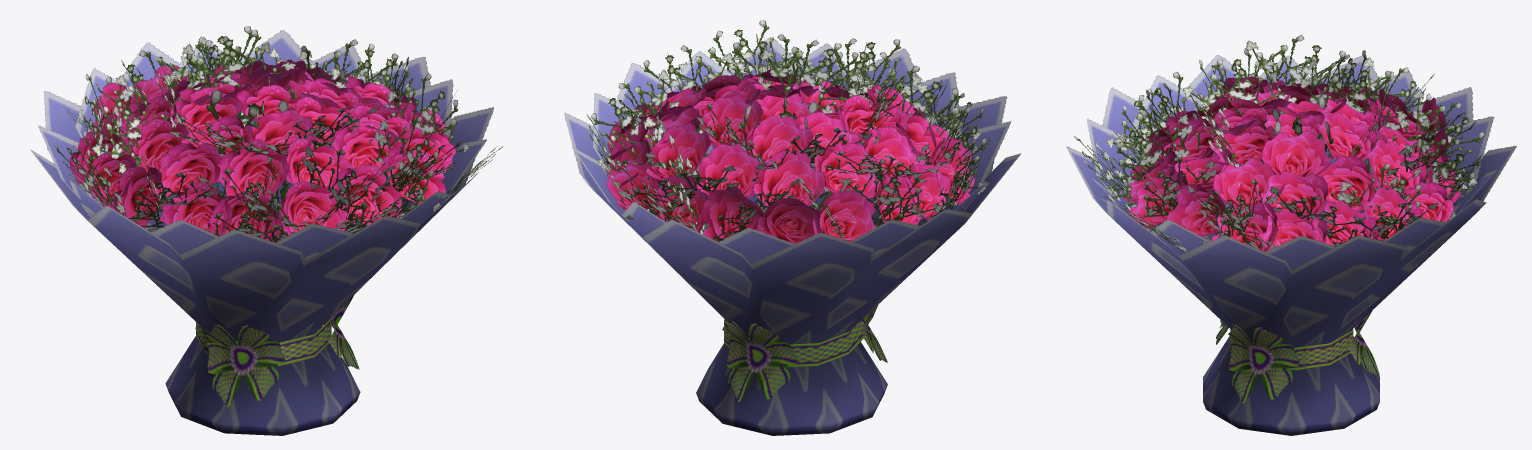
The model's file is furni_0200494.FBX.
3 renders of one model, left to right at view 1: azimuth 30°, elevation 25°; view 2: azimuth 150°, elevation 25°; view 3: azimuth 270°, elevation 25°, orthographic. The views are drawn at different scales.
Parts seen in each view (by area): view 1: furni_0200206; view 2: furni_0200206; view 3: furni_0200206.
Part boxes in pixels (x1=…): furni_0200206: x1=30, y1=26, x2=503, y2=435; furni_0200206: x1=564, y1=20, x2=1021, y2=435; furni_0200206: x1=1066, y1=35, x2=1516, y2=435.
Bounding box in the file's own units: 71.04 × 51.27 × 67.57.
